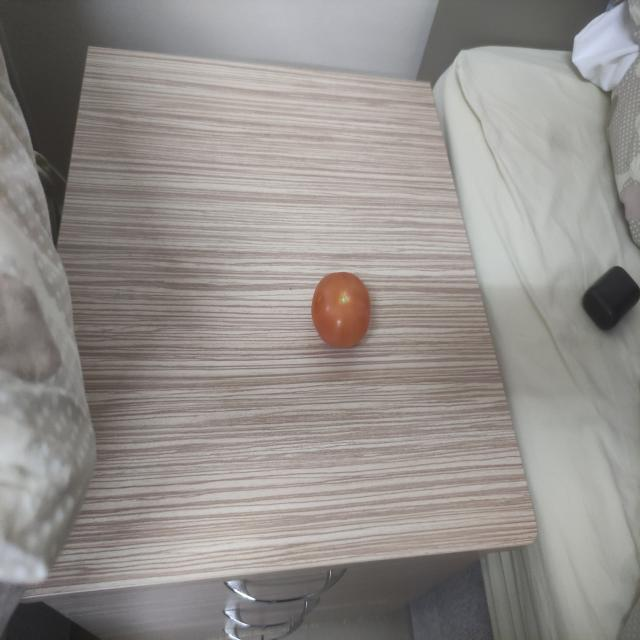sari: (308, 247, 376, 352)
